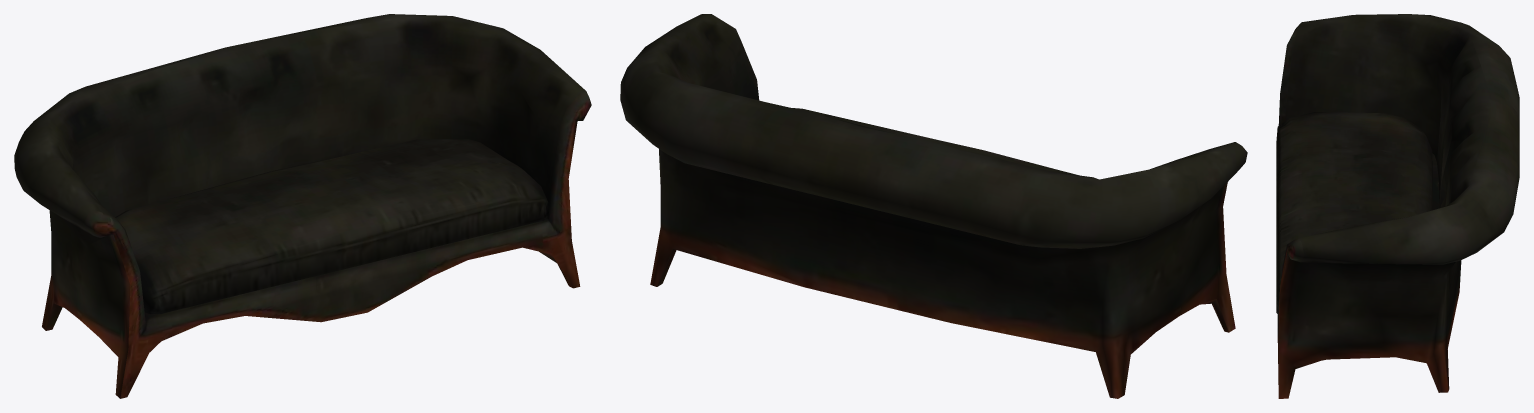
The model's file is sofa_02.glb.
The picture shows the model from 3 angles, left to right: view 1: azimuth 30°, elevation 25°; view 2: azimuth 150°, elevation 25°; view 3: azimuth 270°, elevation 25°; orthographic projection. The views are drawn at different scales.
Visible parts, largest first — view 1: sofa_02_Base, sofa_02_Seat; view 2: sofa_02_Base, sofa_02_Seat; view 3: sofa_02_Base, sofa_02_Seat.
Part boxes in pixels (x1,y1,x2,y2): sofa_02_Base: (14,14,591,398); sofa_02_Seat: (115,139,549,314); sofa_02_Base: (620,14,1247,398); sofa_02_Seat: (792,108,1078,175); sofa_02_Base: (1277,14,1519,398); sofa_02_Seat: (1276,112,1432,313).
Bounding box in the file's own units: 1.81 × 0.7095 × 0.8121.
Materials: 1 (1 with a texture image).
